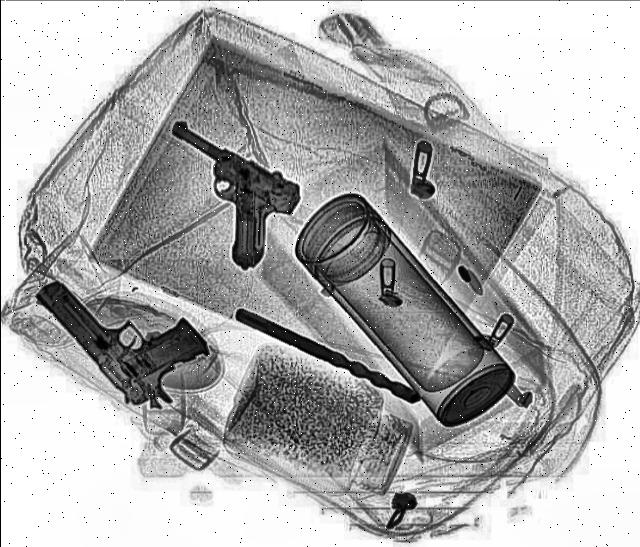Gun: (28, 244, 228, 416), (108, 114, 320, 270)
